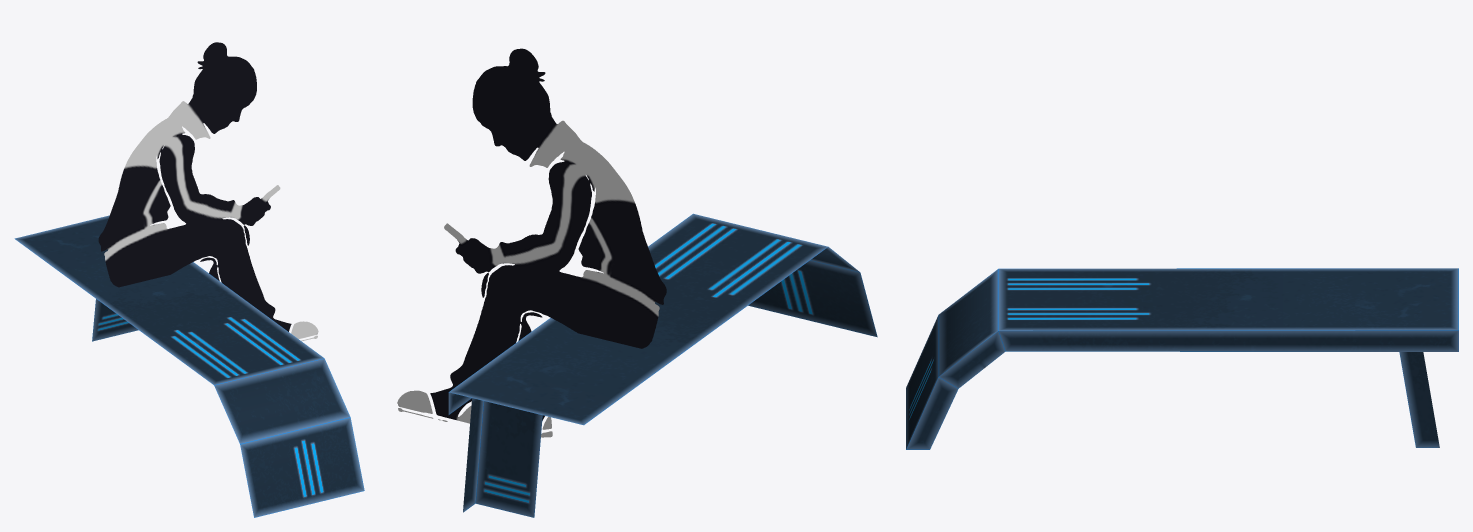
File: Bench 01.fbx
3 renders of one model, left to right at view 1: azimuth 30°, elevation 25°; view 2: azimuth 150°, elevation 25°; view 3: azimuth 270°, elevation 25°, orthographic. The views are drawn at different scales.
Visible parts, largest first — view 1: bench_01; view 2: bench_01; view 3: bench_01.
Part boxes in pixels (x1,y1,x2,y2): bench_01: [14, 42, 364, 517]; bench_01: [397, 48, 877, 517]; bench_01: [906, 268, 1458, 449].
Bounding box in the file's own units: 6.16 × 8.32 × 11.05.
